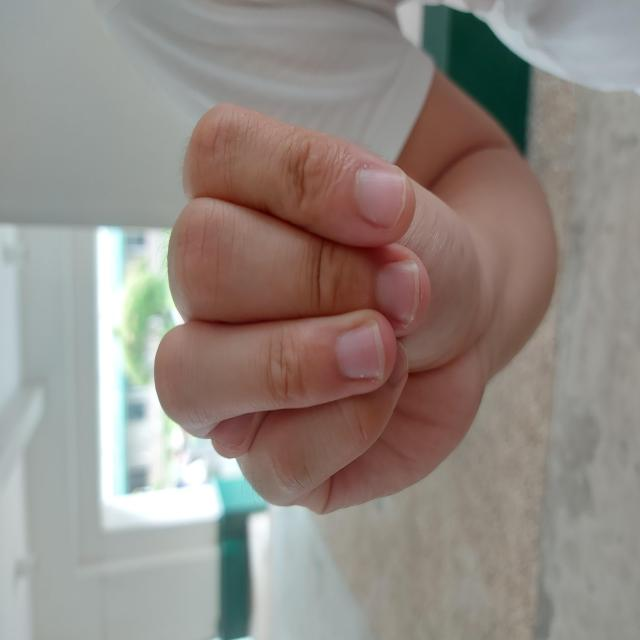M: (124, 152, 539, 489)
